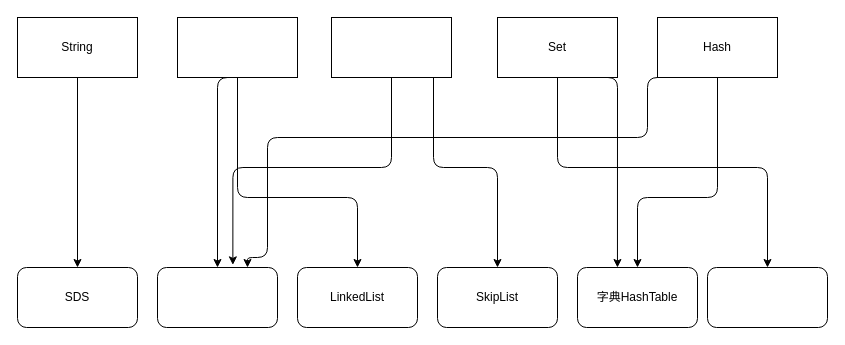
Some shapes in this 845 by 345 pixel diagram are drawn without their labels. Each missing label, with the box of its shape:
IntSet整数列表: (706, 266, 828, 328)
List列表: (176, 16, 298, 78)
SortedSet: (330, 16, 452, 78)
ZipList: (156, 266, 278, 328)
